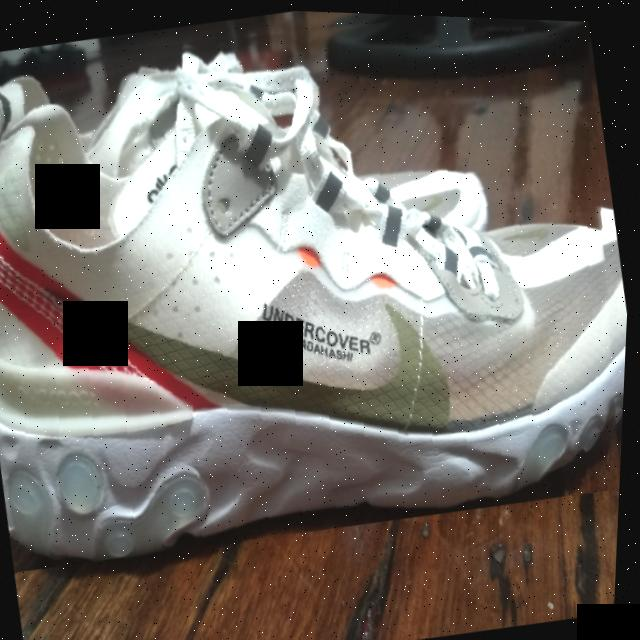shoe: (0, 0, 640, 590)
